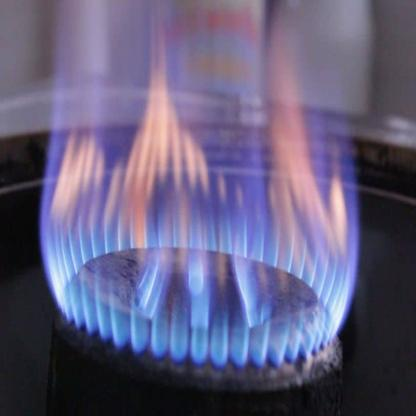fire: (37, 0, 365, 375)
